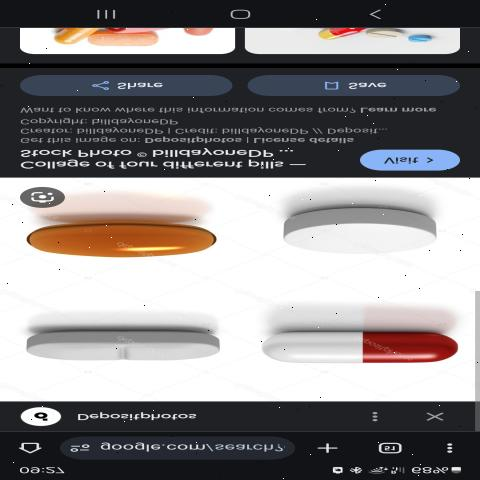Pill: (20, 309, 243, 374), (16, 209, 251, 270), (278, 196, 446, 268), (264, 317, 462, 370)
